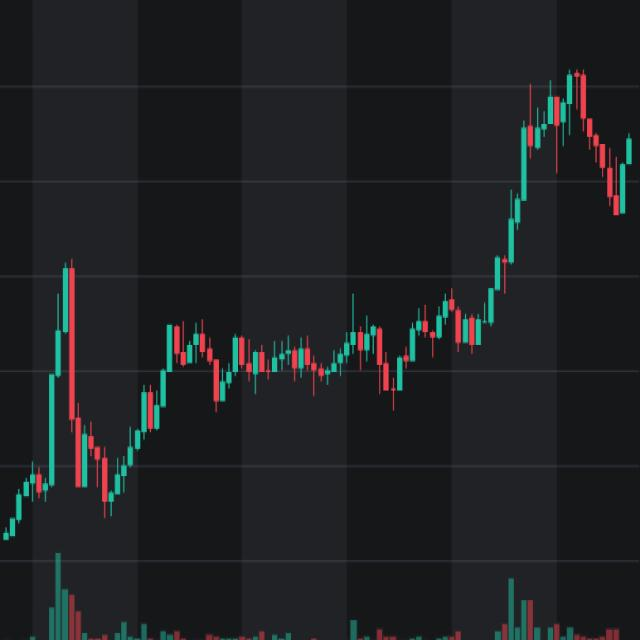Resistance-breakout: (402, 37, 616, 419)
